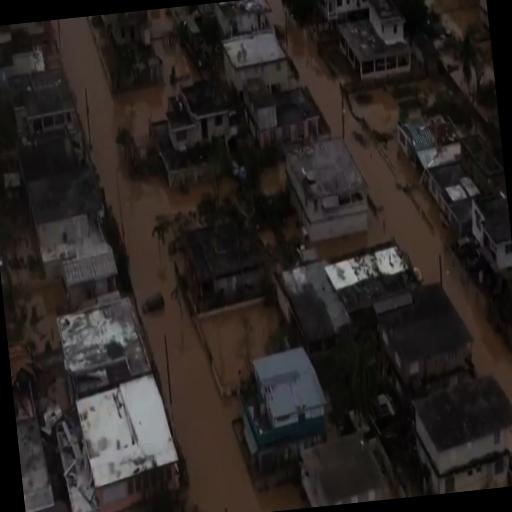flood: (52, 8, 302, 512), (266, 0, 512, 404), (11, 231, 60, 354), (425, 0, 495, 83), (349, 89, 400, 132)
house: (46, 265, 185, 512), (19, 124, 124, 300), (234, 339, 336, 478), (363, 274, 479, 386), (409, 372, 512, 496), (285, 127, 378, 260), (178, 213, 274, 318), (161, 73, 249, 160), (295, 434, 396, 508), (14, 62, 84, 163), (338, 2, 416, 89), (220, 30, 292, 102), (471, 185, 512, 276), (421, 160, 480, 220), (96, 9, 158, 58), (316, 0, 368, 31), (475, 0, 491, 45)
